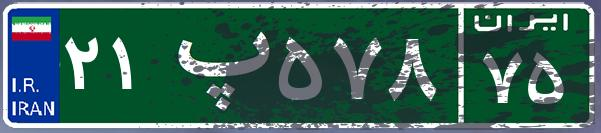1: (110, 28, 158, 105)
2: (57, 26, 110, 107)
5: (273, 28, 330, 110), (525, 38, 570, 115)
7: (330, 28, 385, 110), (475, 38, 525, 113)
8: (385, 28, 445, 110)
پ: (158, 15, 273, 115)
